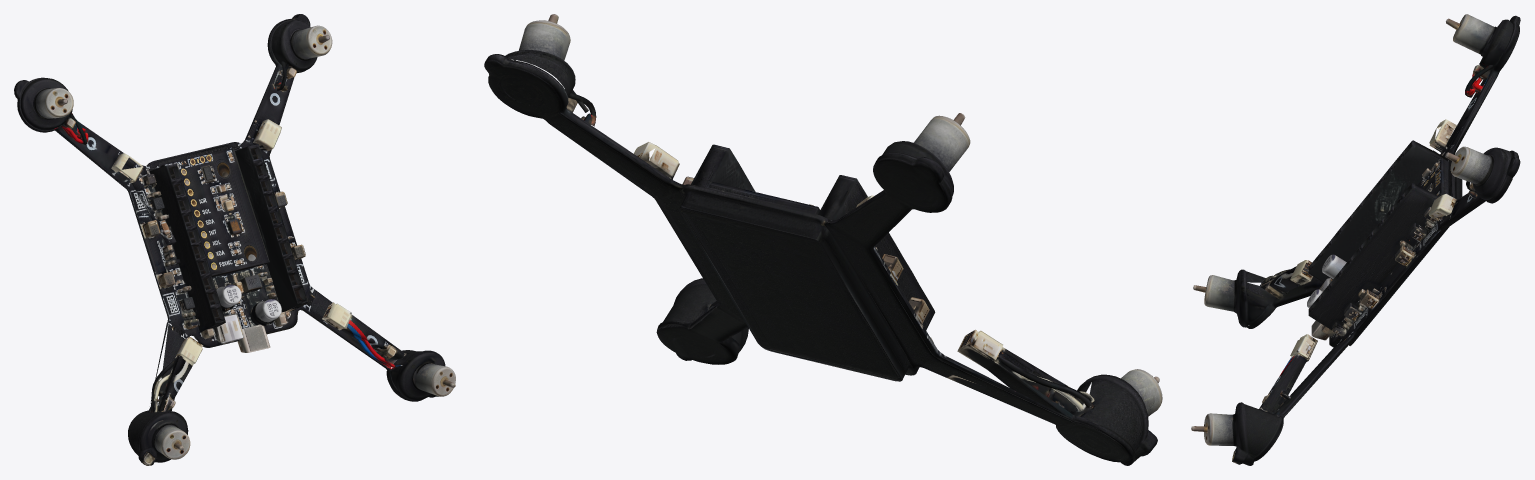
File: board.glb
3 renders of one model, left to right at view 1: azimuth 30°, elevation 25°; view 2: azimuth 150°, elevation 25°; view 3: azimuth 270°, elevation 25°, orthographic. The views are drawn at different scales.
Parts seen in each view (by area): view 1: becb5b7e_ee56_45a6_b6f2_a363e2c01a98; view 2: becb5b7e_ee56_45a6_b6f2_a363e2c01a98; view 3: becb5b7e_ee56_45a6_b6f2_a363e2c01a98.
Part boxes in pixels (left/top/right/bottom): becb5b7e_ee56_45a6_b6f2_a363e2c01a98: left=14, top=14, right=455, bottom=465; becb5b7e_ee56_45a6_b6f2_a363e2c01a98: left=484, top=14, right=1162, bottom=465; becb5b7e_ee56_45a6_b6f2_a363e2c01a98: left=1191, top=14, right=1520, bottom=465.
Size of the model in its own units: 0.9995 by 0.9263 by 0.8853.
1 material, 1 textured.
